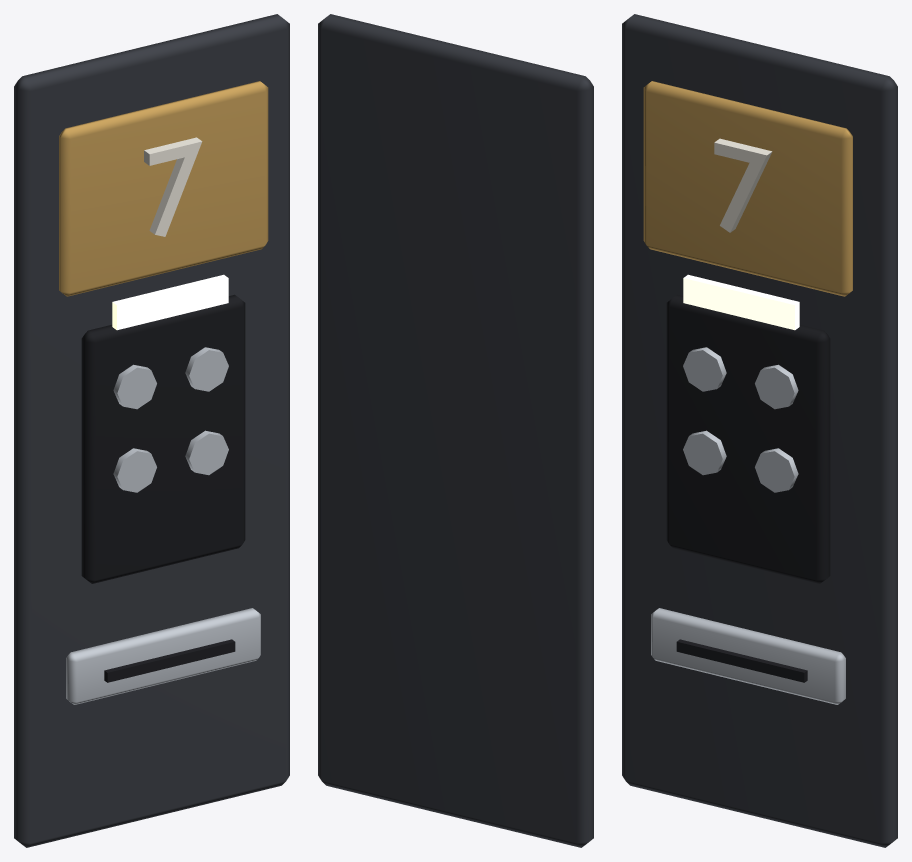
Rendered from door_plate_7.glb.
3 renders of one model, left to right at view 1: azimuth 30°, elevation 25°; view 2: azimuth 150°, elevation 25°; view 3: azimuth 330°, elevation 25°, orthographic.
Visible parts, largest first — view 1: door_plate_7; view 2: door_plate_7; view 3: door_plate_7.
Boxes of the visible parts, x1,y1,x2,y2 form: door_plate_7: (14,14,289,847); door_plate_7: (318,14,593,847); door_plate_7: (622,14,897,847).
Size of the model in its own units: 0.34 by 0.92 by 0.062.
